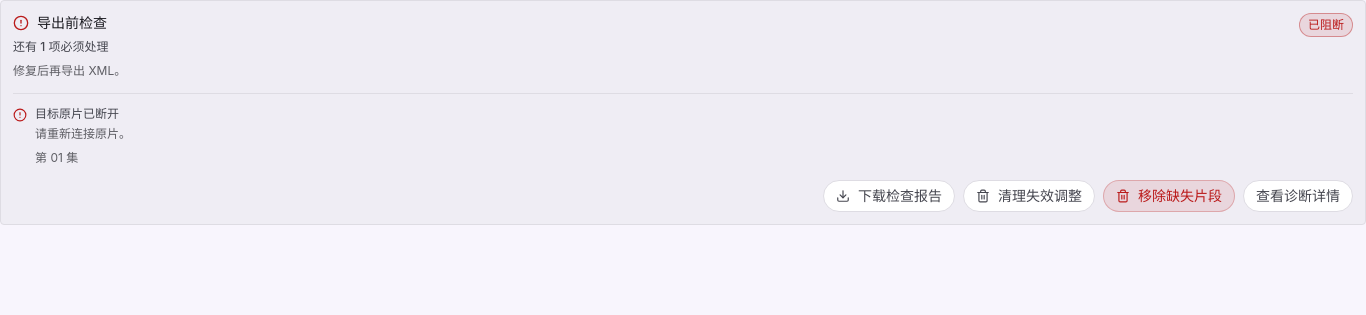
ExportReadinessPanel › 展示阻断、清理动作与按需诊断，并转发现有 action
expect the text "还有 1 项必须处理" is shown: met, box [13,39,108,54]
expect the text "目标原片已断开" is shown: met, box [35,106,131,122]
Click the button "清理失效调整" at [1029, 196], box [963,180,1095,212]
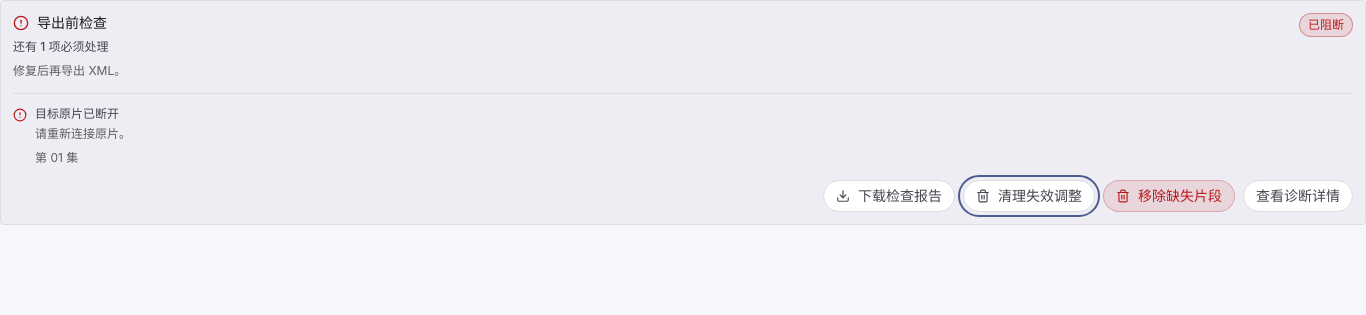
Click the button "移除缺失片段" at [1169, 196], box [1103,180,1235,212]
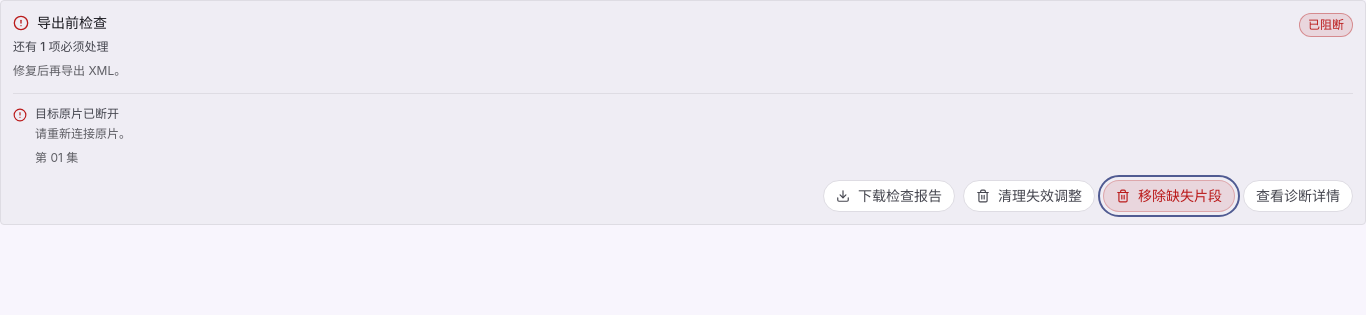
Click the button "查看诊断详情" at [1298, 196], box [1243,180,1353,212]
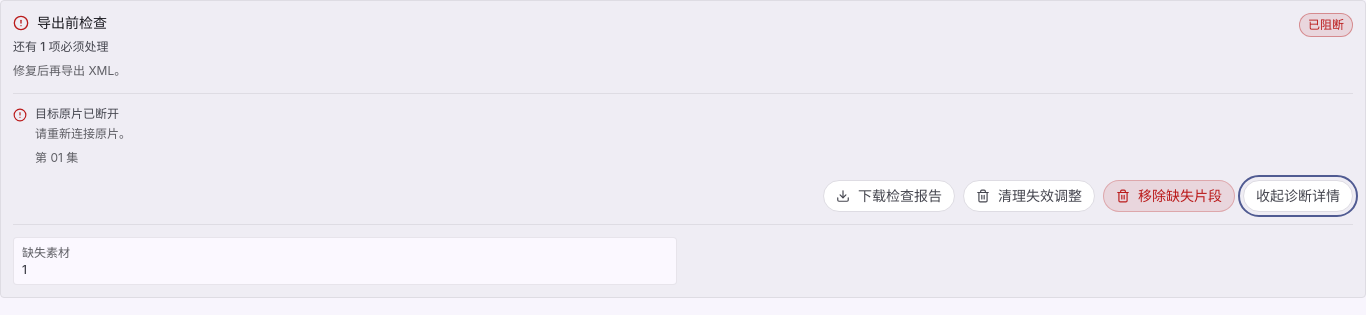
expect the text "缺失素材" is shown: met, box [22,245,70,260]
expect the text "1" is shown: met, box [22,262,27,277]
expect the button "收起诊断详情" is shown: met, box [1243,180,1353,212]
